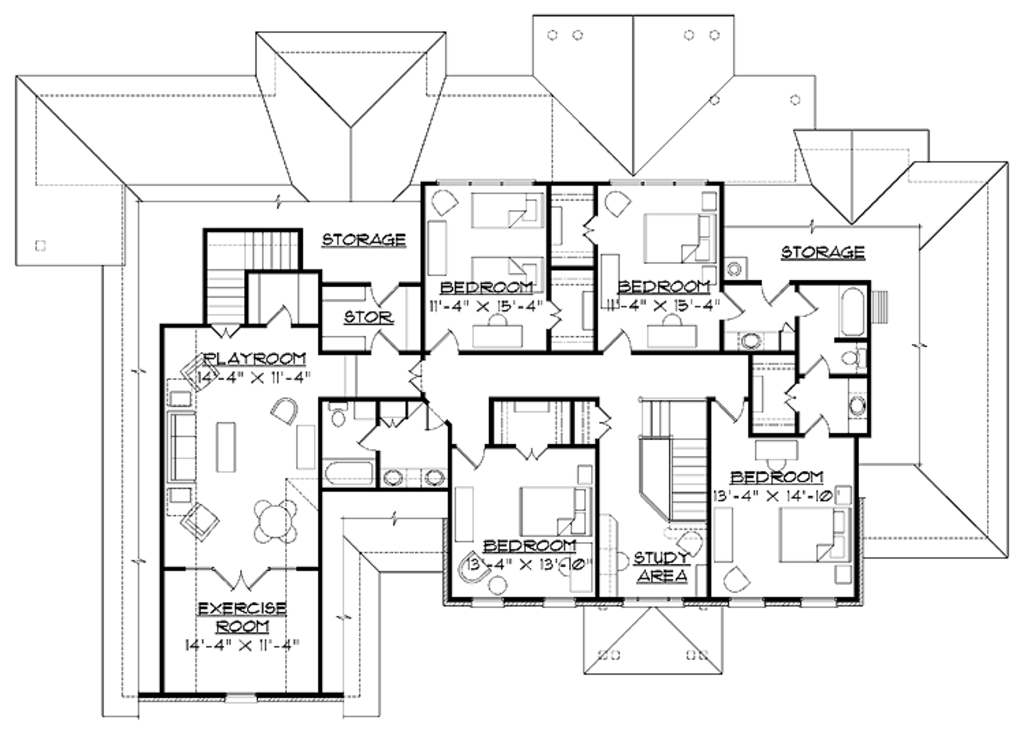bed: (777, 502, 852, 566), (641, 210, 719, 268), (519, 483, 592, 536), (468, 189, 545, 235), (471, 253, 544, 296)
door: (210, 566, 271, 591), (709, 394, 748, 428), (451, 441, 489, 472), (597, 328, 635, 357), (424, 327, 459, 358), (367, 276, 400, 307), (795, 283, 821, 321), (717, 286, 745, 321), (802, 413, 834, 442), (368, 330, 403, 356), (759, 281, 795, 306), (513, 441, 552, 463), (423, 403, 448, 435), (803, 356, 831, 381), (578, 213, 600, 244), (594, 405, 614, 438), (356, 424, 380, 451), (781, 382, 798, 415)
large_sink: (320, 400, 354, 427), (840, 344, 871, 369)
large_sofa: (162, 407, 200, 484)
round_table: (249, 496, 304, 544)
small_sink: (378, 467, 449, 493), (846, 378, 873, 437)
small_sofa: (181, 502, 223, 544), (178, 352, 217, 391)
stairs: (199, 227, 303, 324), (641, 395, 709, 524)
tub: (834, 285, 872, 339), (322, 459, 377, 491)
window: (622, 596, 687, 607), (726, 596, 765, 613), (798, 596, 837, 611), (224, 690, 258, 706), (471, 594, 505, 609), (543, 596, 576, 608)
